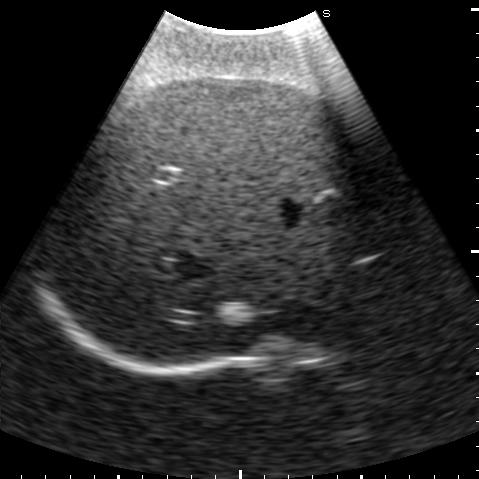S5: (118, 76, 355, 191)
S7: (37, 144, 171, 306)
S8: (99, 184, 379, 363)
Tumor: (218, 301, 256, 327)
